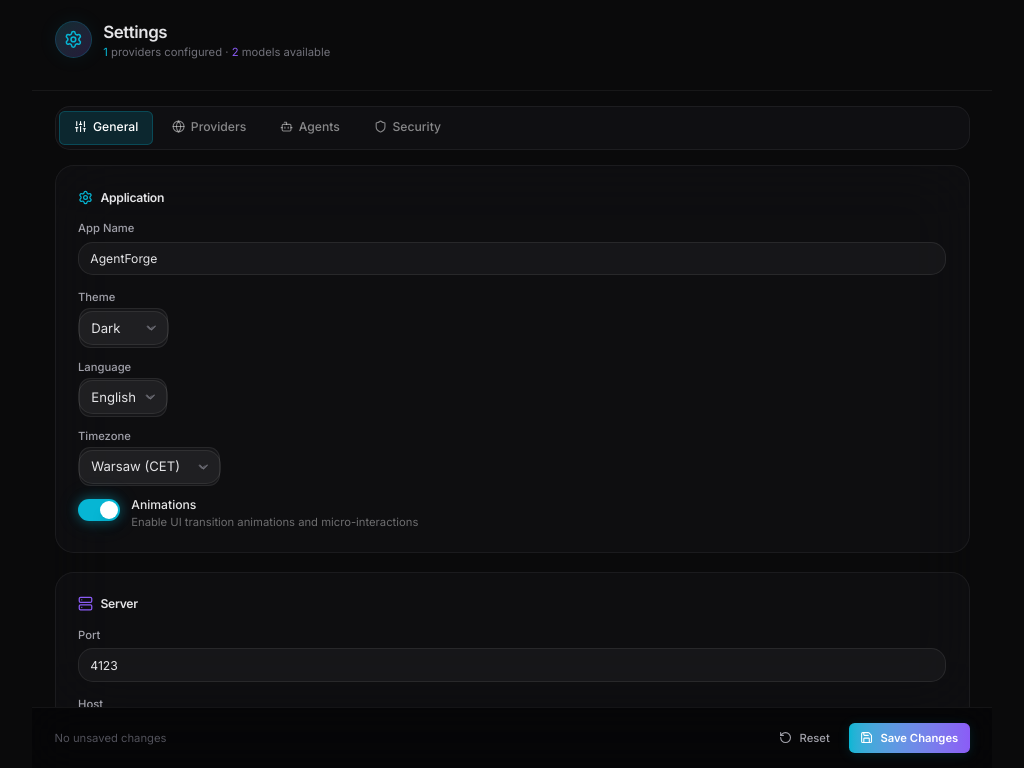
Test case: SettingsPage › switches to Security tab
Check: the text "Security" is shown, box [374,118,441,136]
Click the tab "Security".
click(407, 128)  # box [359,111,456,146]
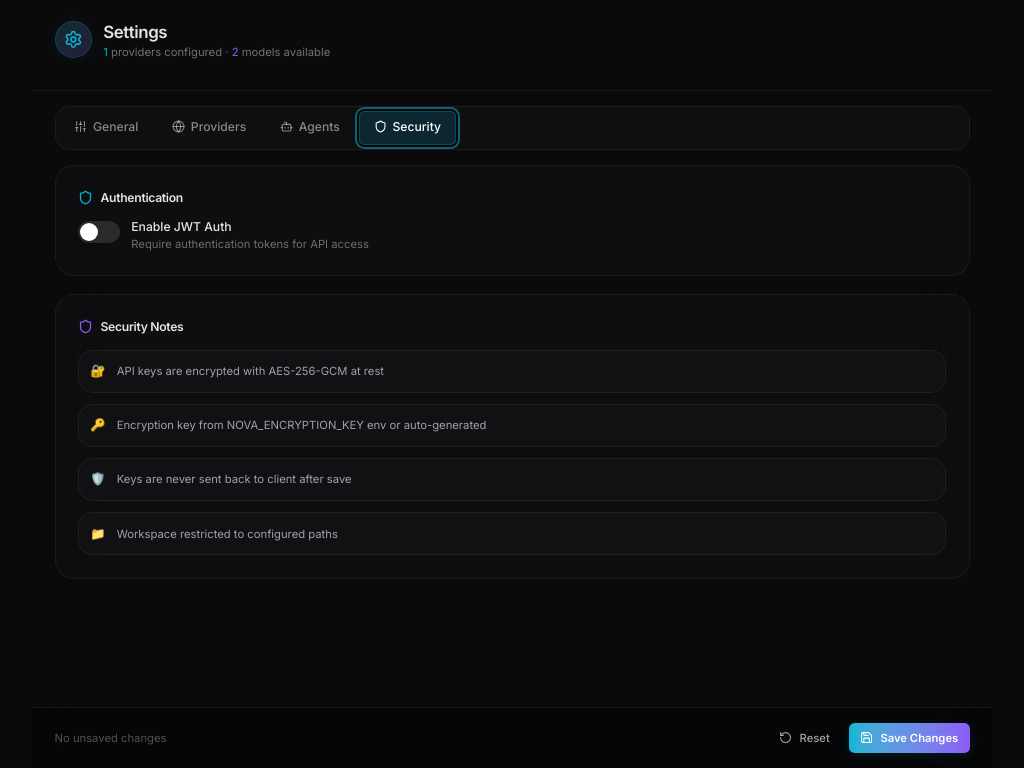
Check: the heading "Authentication" is shown, box [78,190,183,205]
